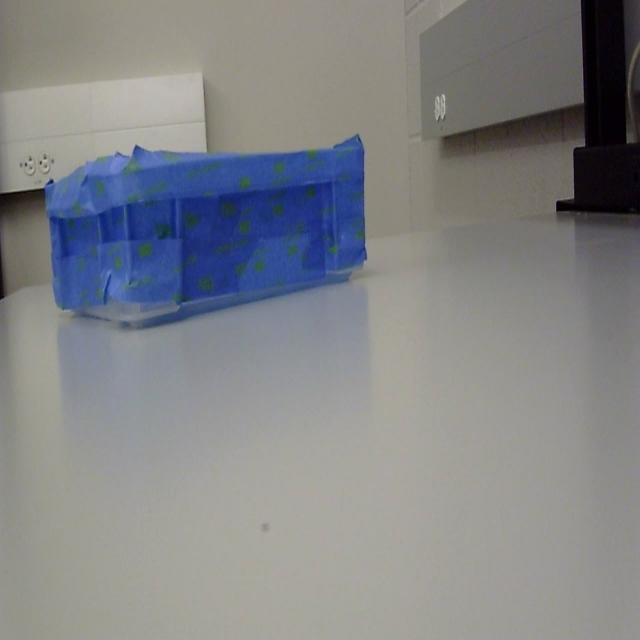bucket: (45, 136, 368, 330)
